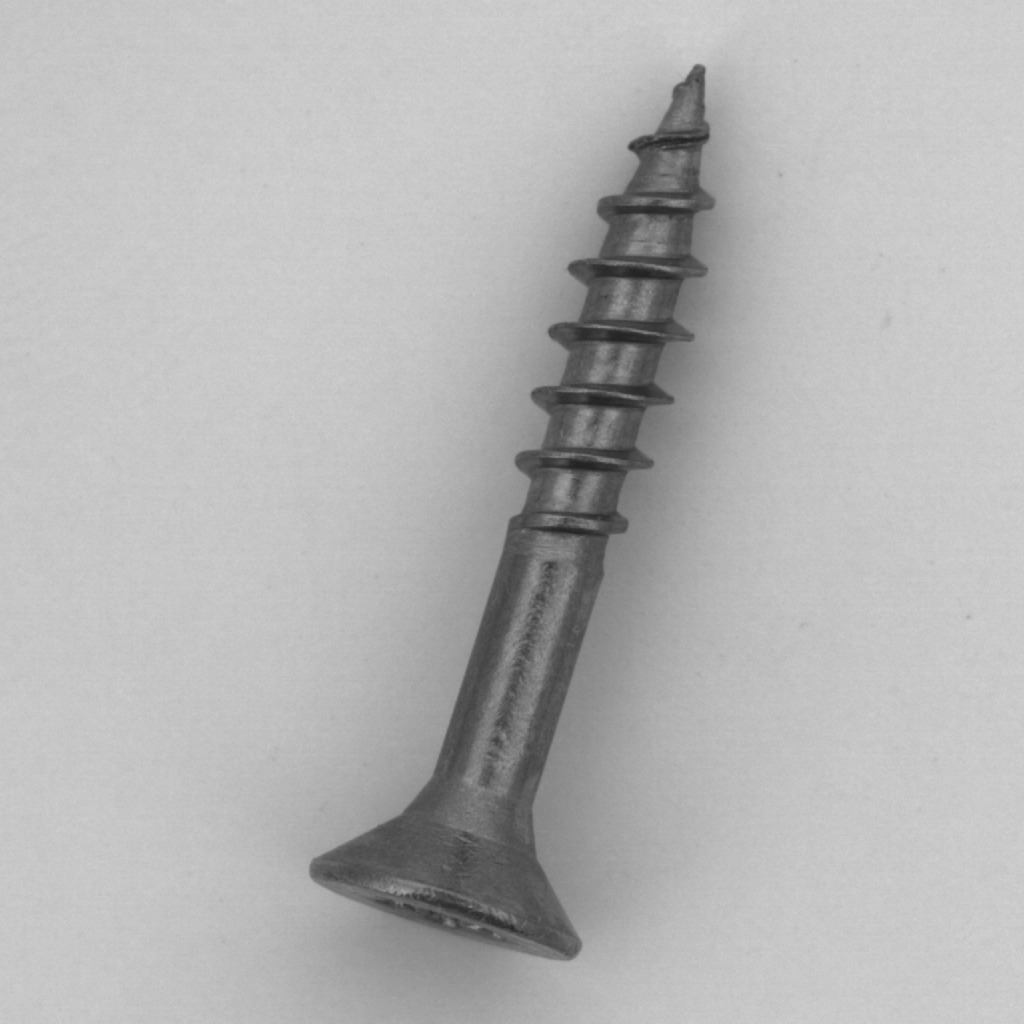good: (296, 43, 739, 975)
